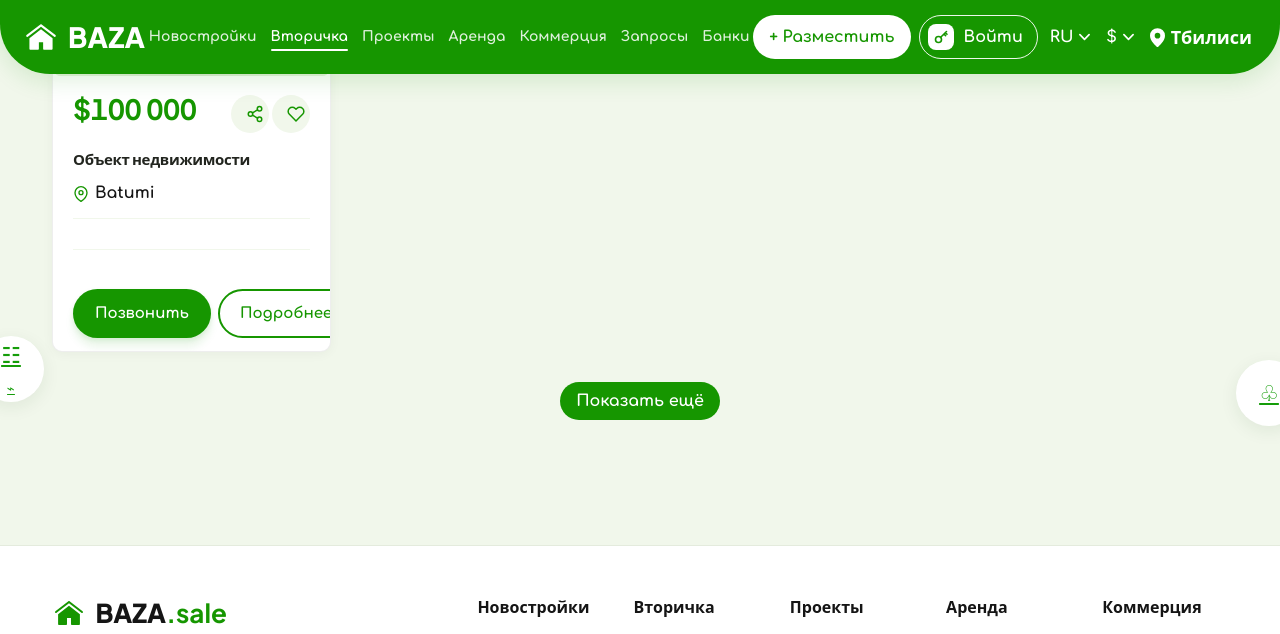
Test: Cursor Pagination & Deduplication Acceptance › recovers from pagination error without wiping out existing items
(page scrolled)
Click the button "Показать ещё" at (640, 401), box [560, 382, 720, 420]
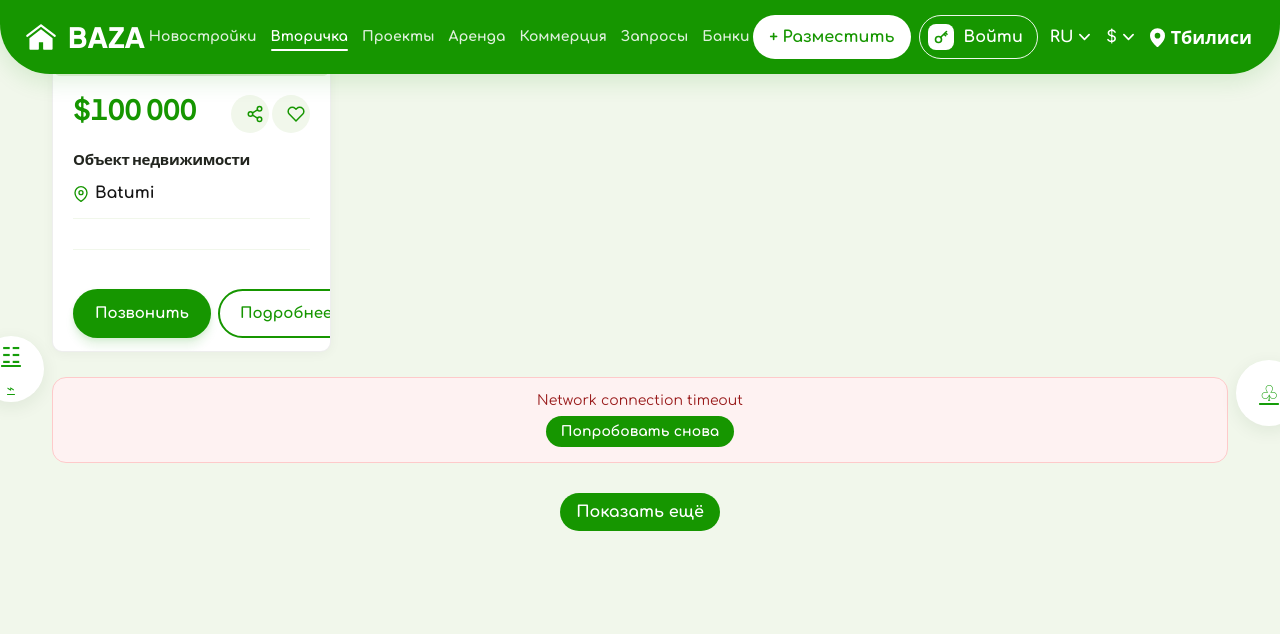
Check: the text "Network connection timeout" is shown, box [537, 393, 743, 408]
Click the button "Попробовать снова" at (640, 432), box [546, 416, 734, 447]
(page scrolled)
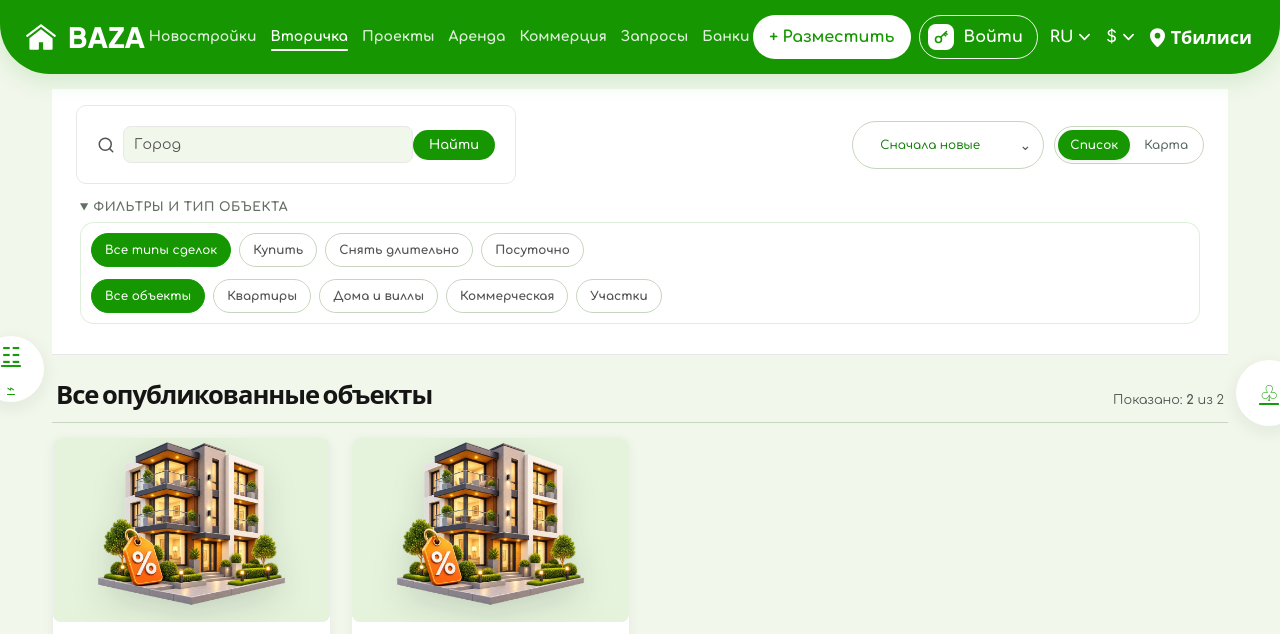
Check: the element with test id "catalogue-count" reads "Показано: 2 из 2", box [1113, 393, 1224, 407]
